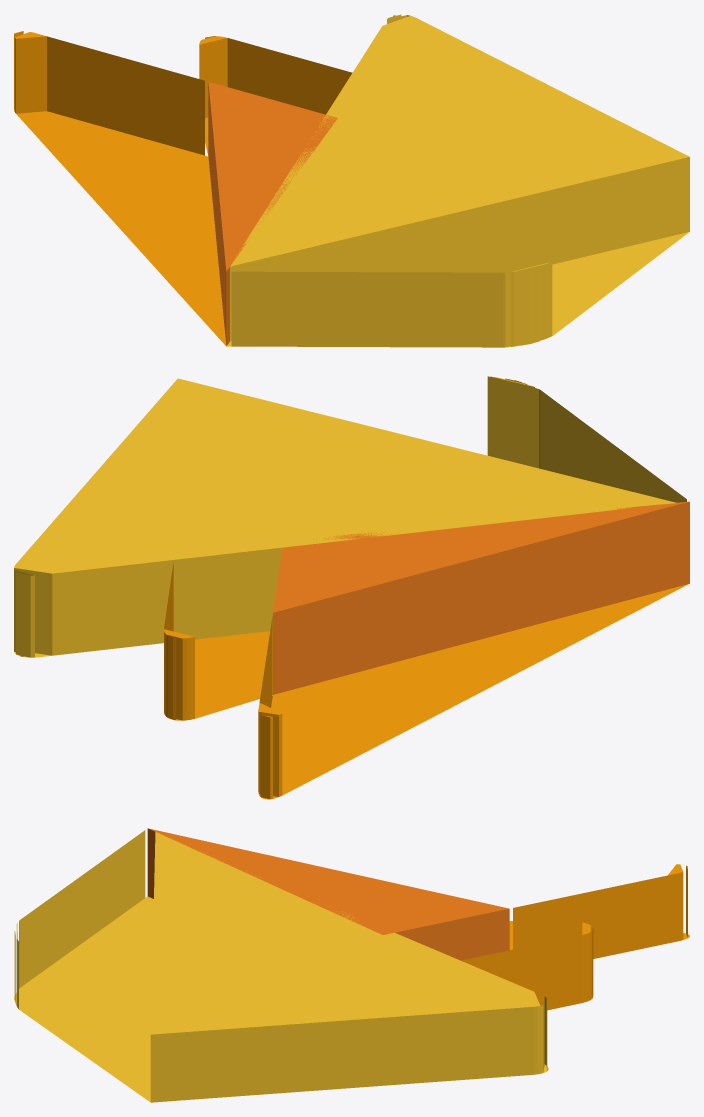
Rendered from firebaseok.glb.
3 views of the same model, one above another, from view 1: azimuth 30°, elevation 25°; view 2: azimuth 150°, elevation 25°; view 3: azimuth 270°, elevation 25° (orthographic). The views are drawn at different scales.
Visible parts, largest first — view 1: Curve.002, Curve.003, Curve.001, Curve; view 2: Curve.002, Curve.001, Curve.003, Curve; view 3: Curve.002, Curve.001, Curve.003, Curve.
Boxes of the visible parts, bbox=[...] form: Curve.002: bbox=[226, 14, 689, 347]; Curve.003: bbox=[14, 31, 226, 345]; Curve.001: bbox=[208, 81, 337, 345]; Curve: bbox=[199, 36, 352, 155]; Curve.002: bbox=[14, 376, 686, 657]; Curve.001: bbox=[273, 501, 689, 694]; Curve.003: bbox=[258, 584, 688, 799]; Curve: bbox=[164, 562, 272, 720]; Curve.002: bbox=[14, 830, 548, 1102]; Curve.001: bbox=[147, 828, 509, 960]; Curve.003: bbox=[509, 864, 689, 958]; Curve: bbox=[461, 922, 593, 1010].
Bounding box in the file's own units: 7.4 × 1.14 × 10.24.
